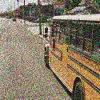buses: (40, 14, 100, 100)
